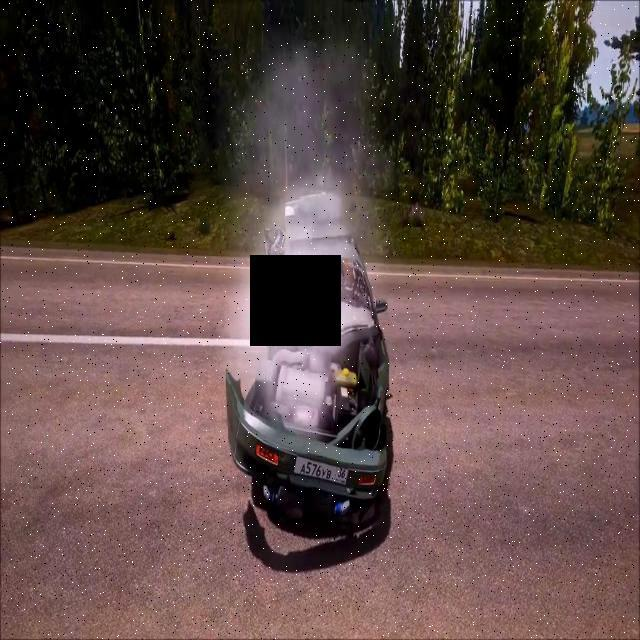severe: (223, 187, 397, 538)
